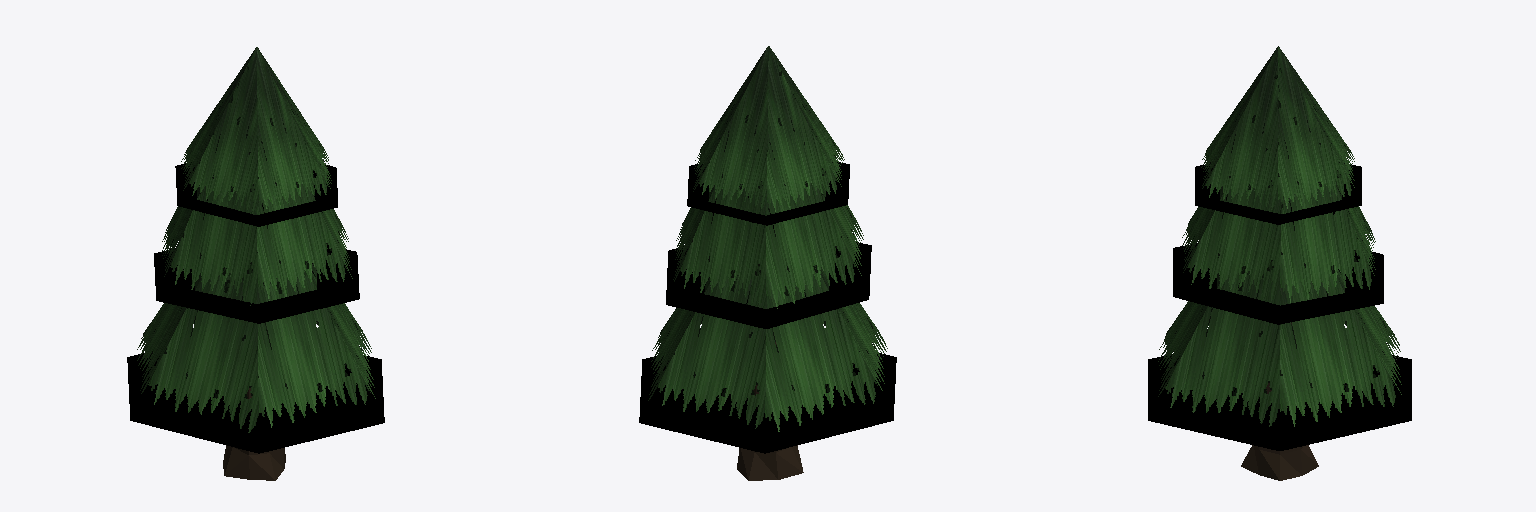
3 views of the same model, side by side, from view 1: azimuth 30°, elevation 25°; view 2: azimuth 150°, elevation 25°; view 3: azimuth 270°, elevation 25° (orthographic).
Parts seen in each view (by area): view 1: Object.5, Object.4, Object.3, Object.1; view 2: Object.5, Object.4, Object.3, Object.1; view 3: Object.5, Object.4, Object.3, Object.1.
Part boxes in pixels (bbox=[...]): Object.5: bbox=[127, 263, 384, 453]; Object.4: bbox=[154, 69, 359, 323]; Object.3: bbox=[175, 47, 337, 226]; Object.1: bbox=[223, 445, 285, 480]; Object.5: bbox=[639, 267, 896, 453]; Object.4: bbox=[666, 116, 871, 328]; Object.3: bbox=[687, 46, 849, 225]; Object.1: bbox=[737, 445, 803, 480]; Object.5: bbox=[1148, 269, 1411, 450]; Object.4: bbox=[1173, 72, 1383, 324]; Object.3: bbox=[1195, 46, 1361, 224]; Object.1: bbox=[1241, 445, 1318, 480].
Bounding box in the file's own units: 2.5 × 4 × 2.27.
Materials: 3 (1 with a texture image).